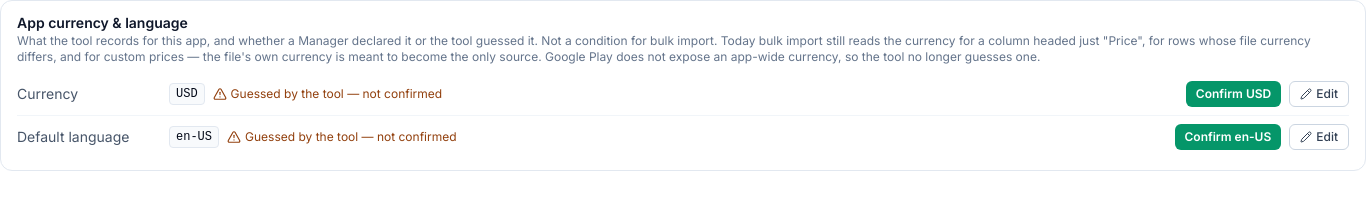
Test case: AppDefaultsCard — confirm / set › saved but the server could not re-read ⇒ says SAVED (not 'failed'), asks for a reload (P5)
This screenshot has width=1366, height=212.
Click the button "Confirm USD": (1234, 94) [1186,81,1281,107]
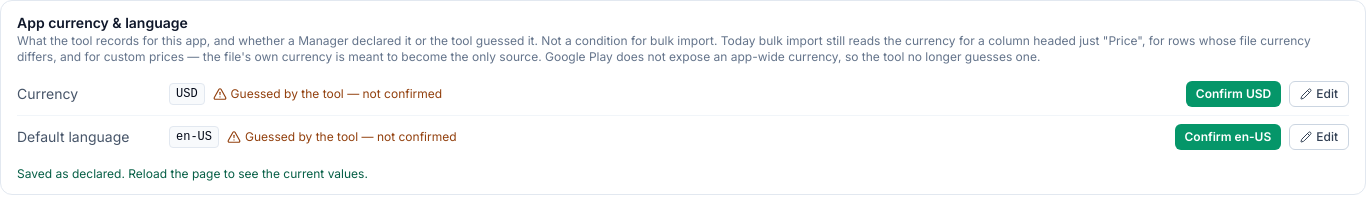
Expected: the text with test id "app-defaults-notice" shows "Saved as declared", [17,166,368,181]
